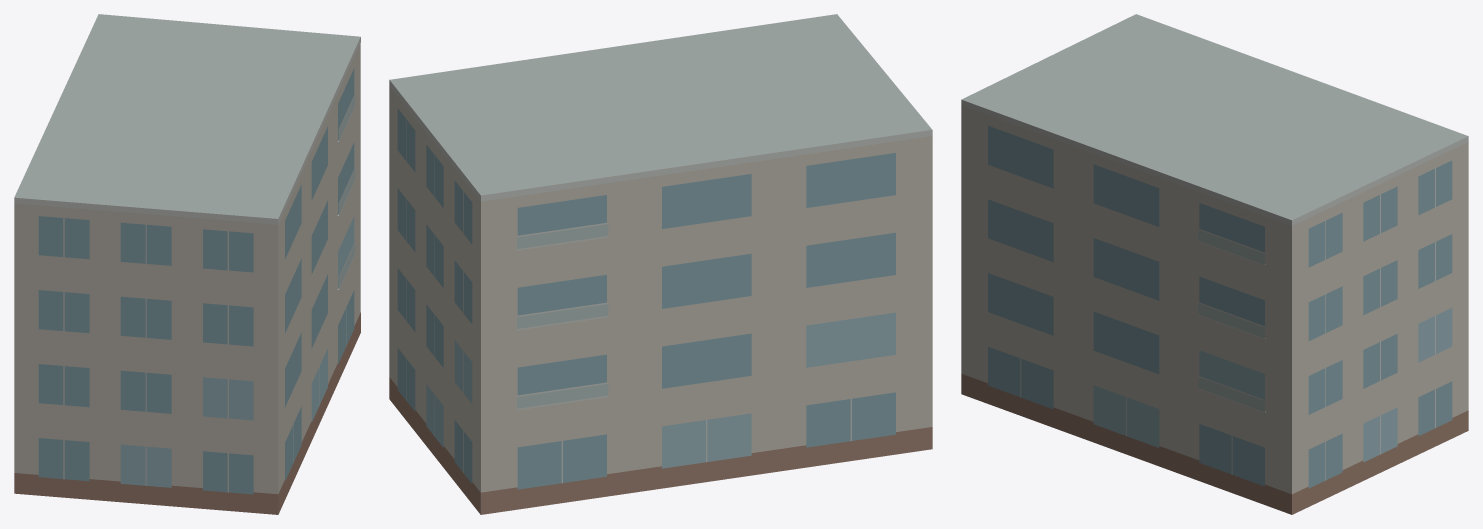
Rendered from survey-upis-32892010.glb.
The picture shows the model from 3 angles, left to right: view 1: azimuth 30°, elevation 25°; view 2: azimuth 150°, elevation 25°; view 3: azimuth 270°, elevation 25°; orthographic projection. The views are drawn at different scales.
Parts seen in each view (by area): view 1: survey-upis-32892010.tmp; view 2: survey-upis-32892010.tmp; view 3: survey-upis-32892010.tmp.
Part boxes in pixels (bbox=[...]): survey-upis-32892010.tmp: bbox=[14, 14, 360, 514]; survey-upis-32892010.tmp: bbox=[389, 14, 932, 514]; survey-upis-32892010.tmp: bbox=[961, 14, 1468, 514].
Size of the model in its own units: 19.09 by 12.7 by 19.84.
